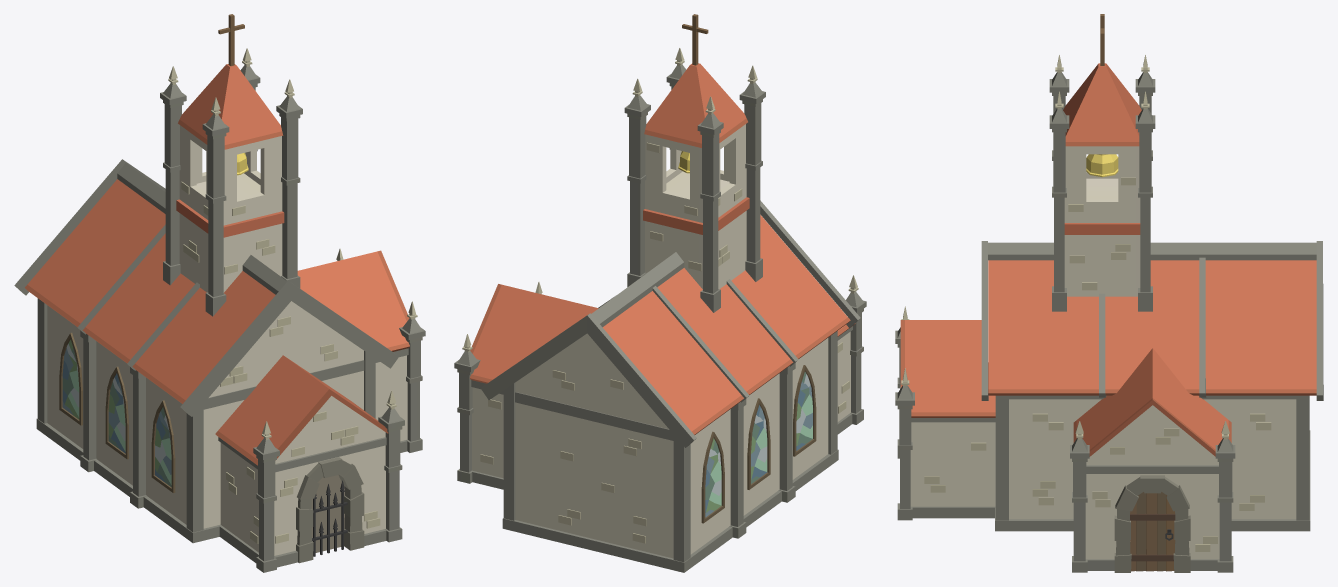
File: Church.fbx
The picture shows the model from 3 angles, left to right: view 1: azimuth 30°, elevation 25°; view 2: azimuth 150°, elevation 25°; view 3: azimuth 270°, elevation 25°; orthographic projection. The views are drawn at different scales.
Parts seen in each view (by area): view 1: Church; view 2: Church; view 3: Church.
Part boxes in pixels (bbox=[...]): Church: bbox=[14, 14, 425, 572]; Church: bbox=[454, 14, 866, 572]; Church: bbox=[895, 14, 1323, 572].
Size of the model in its own units: 281 by 439 by 361.
1 material, 1 textured.
